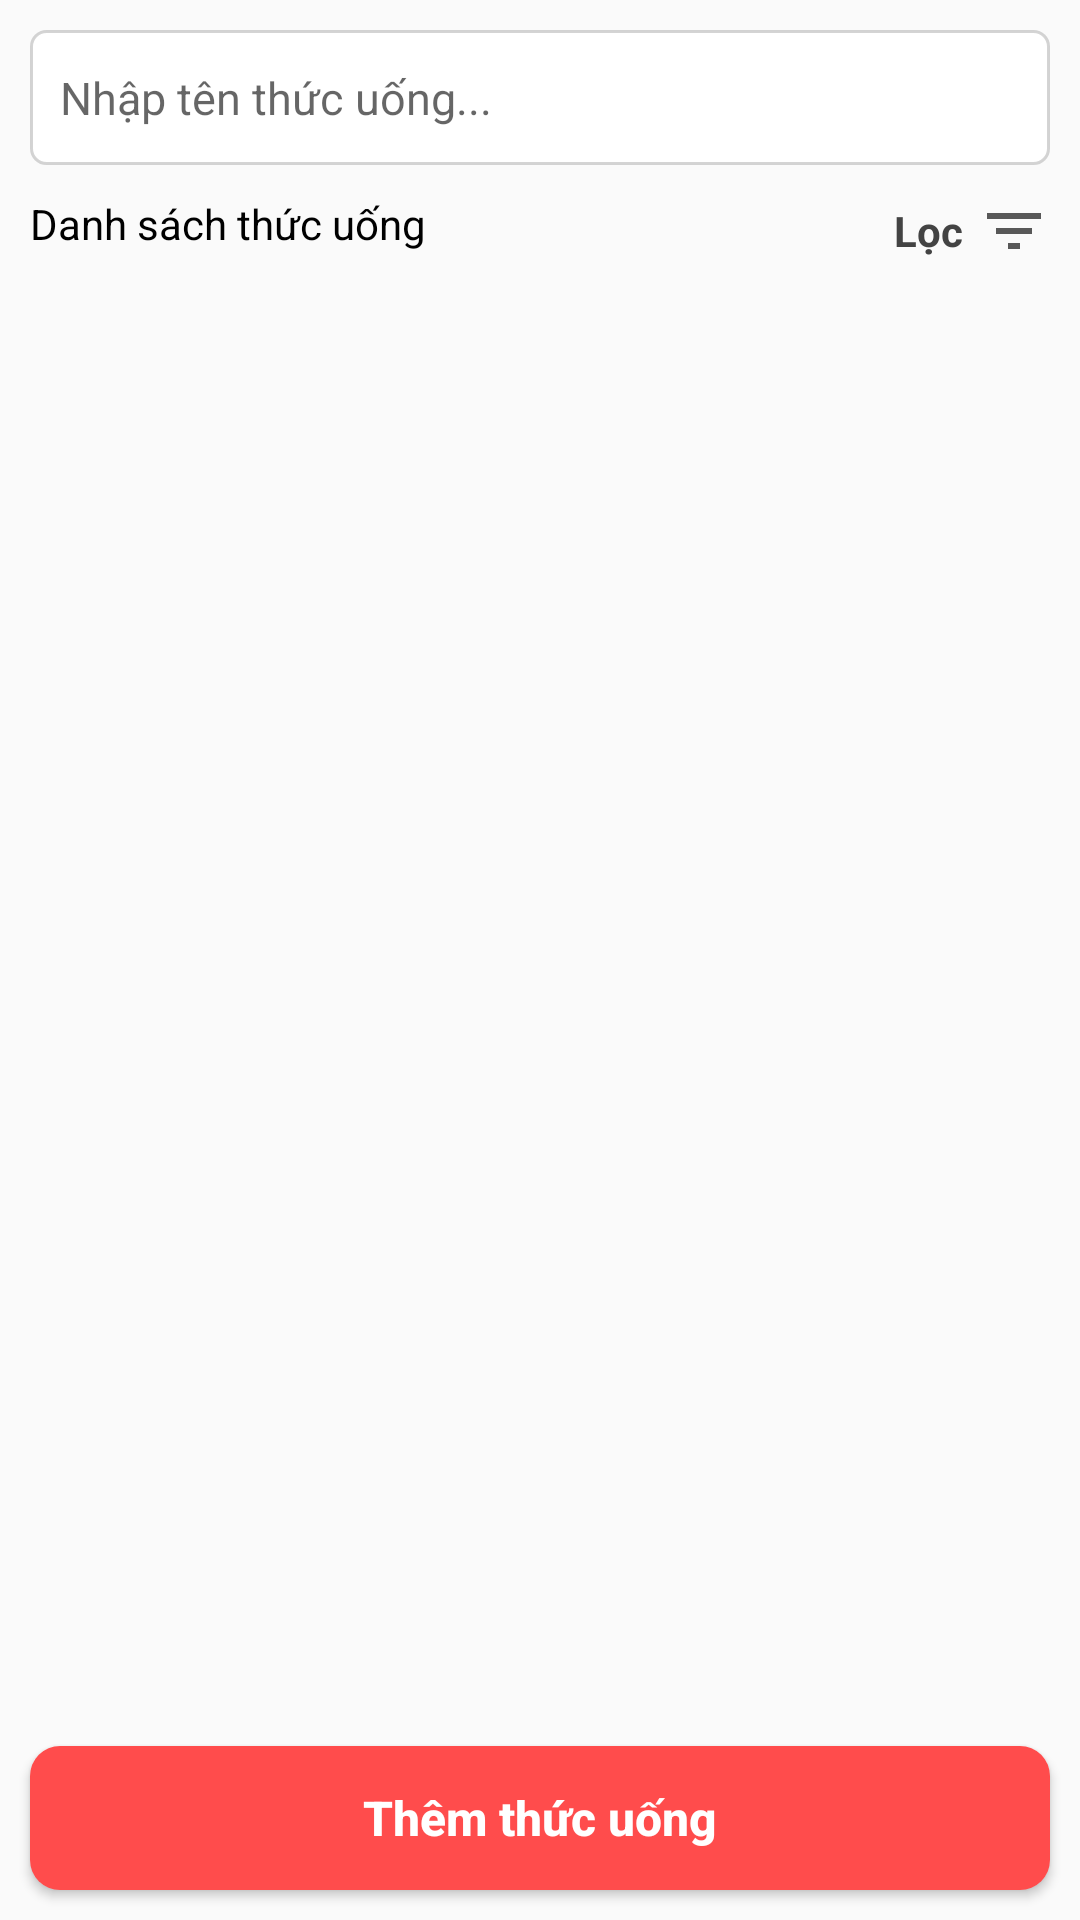

Where to tap for icons on this 1080*1920 app screen, as point (x, y):
filter list: point (1014, 231)
